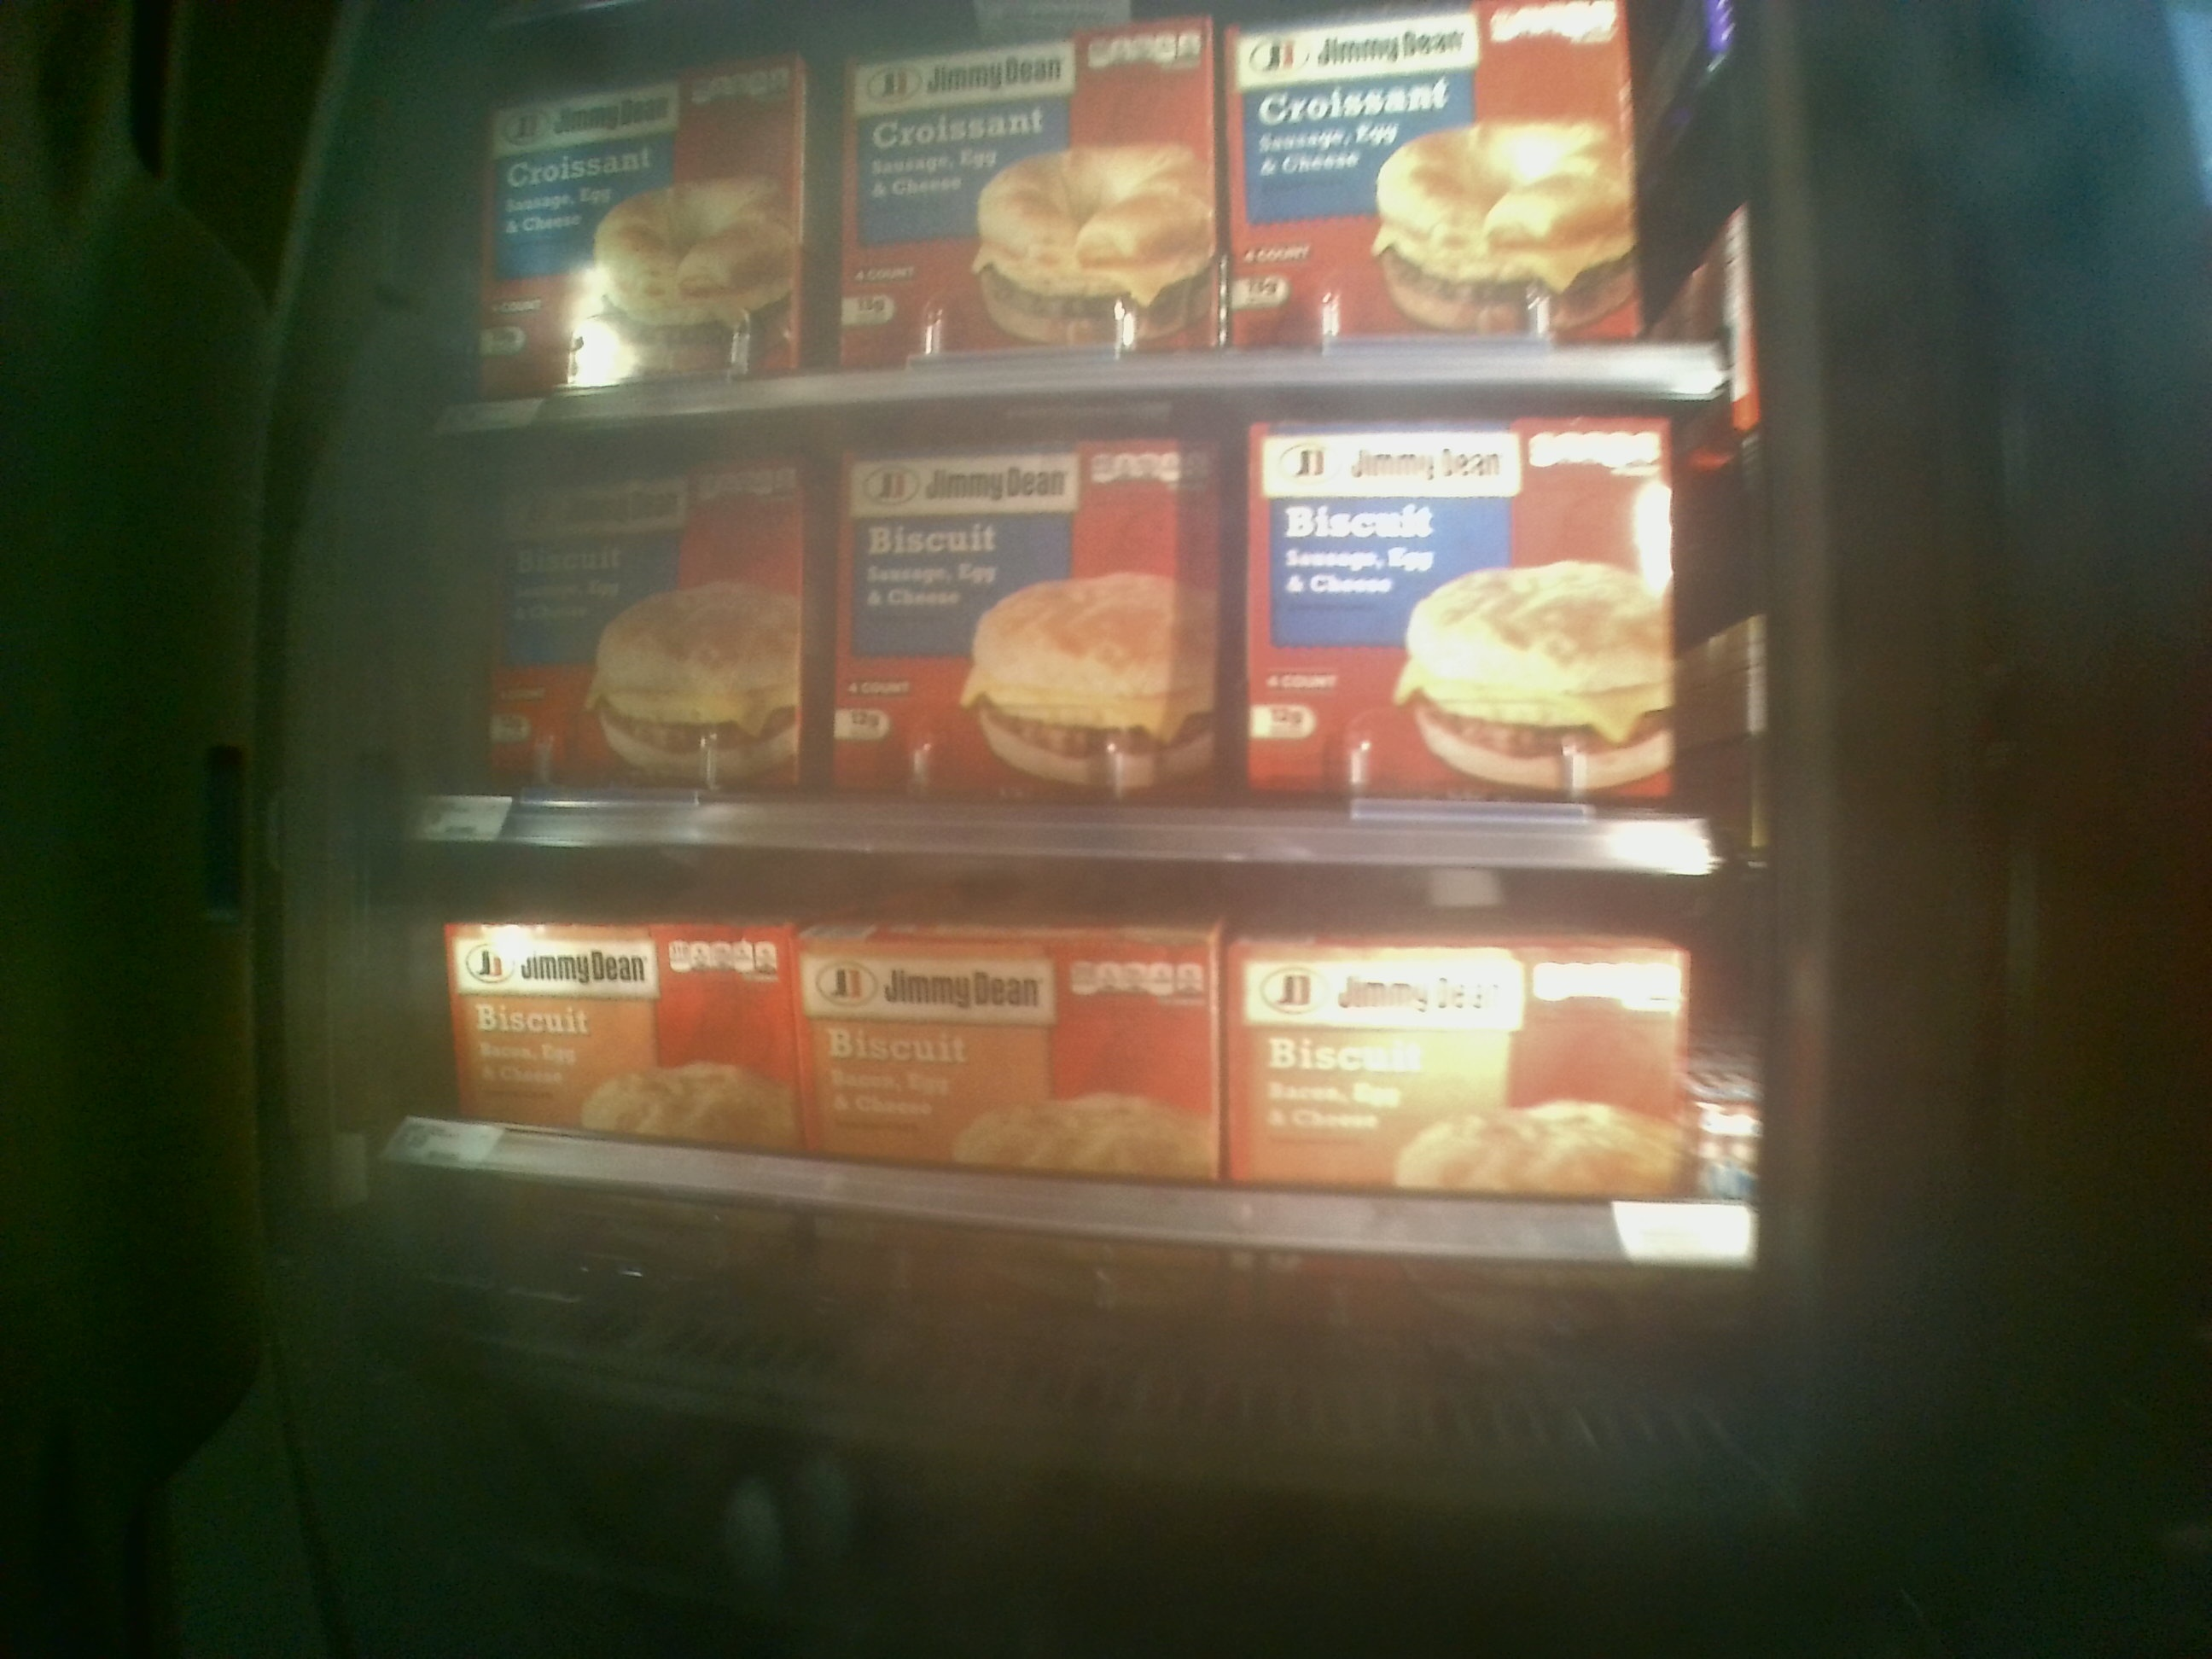shelf: (394, 842, 1777, 1410), (409, 380, 1764, 868)
